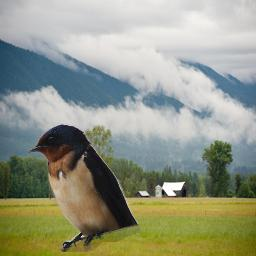Swallow: (27, 123, 140, 252)
